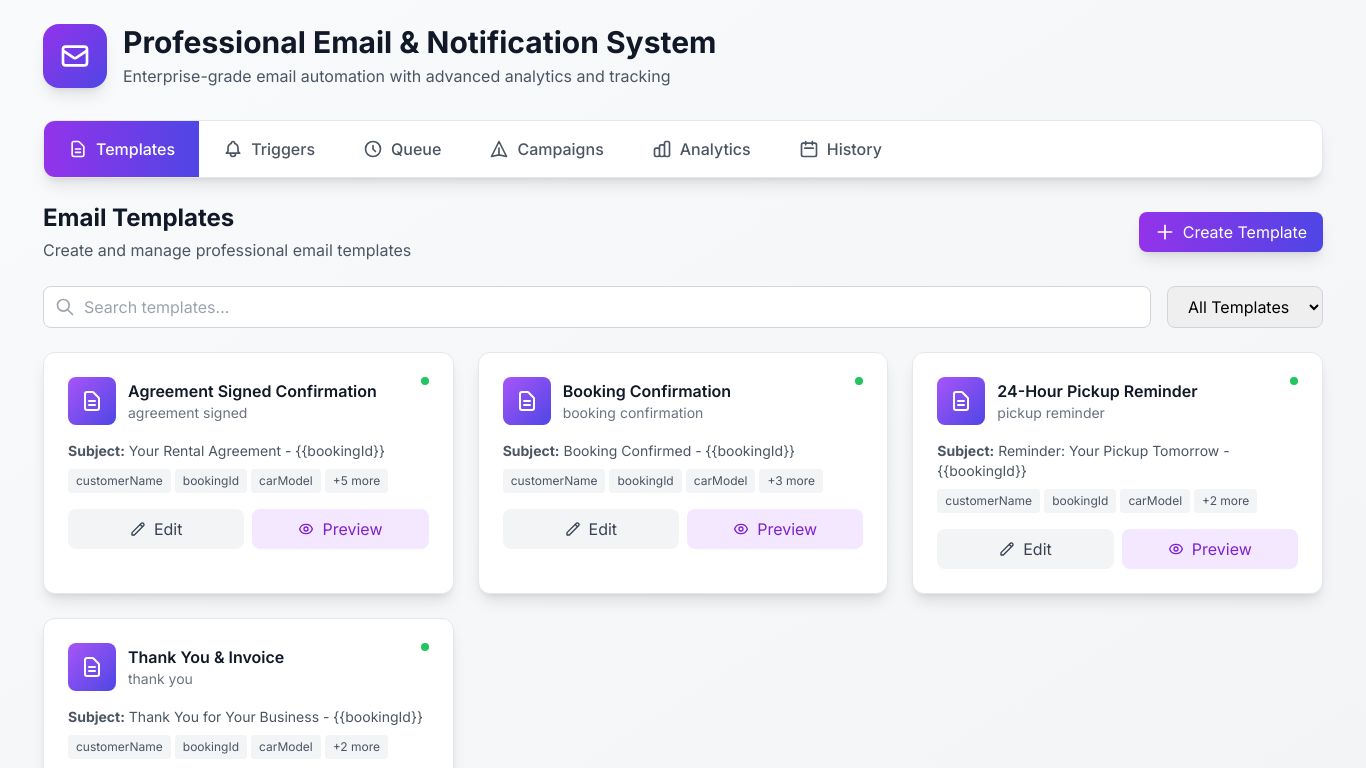
it: ProfessionalEmailNotificationSystem › Templates Tab › should open template preview on click
Click the button "Preview" below "Your Rental Agreement - {{bookingId}}": click(340, 529) [252, 509, 429, 549]
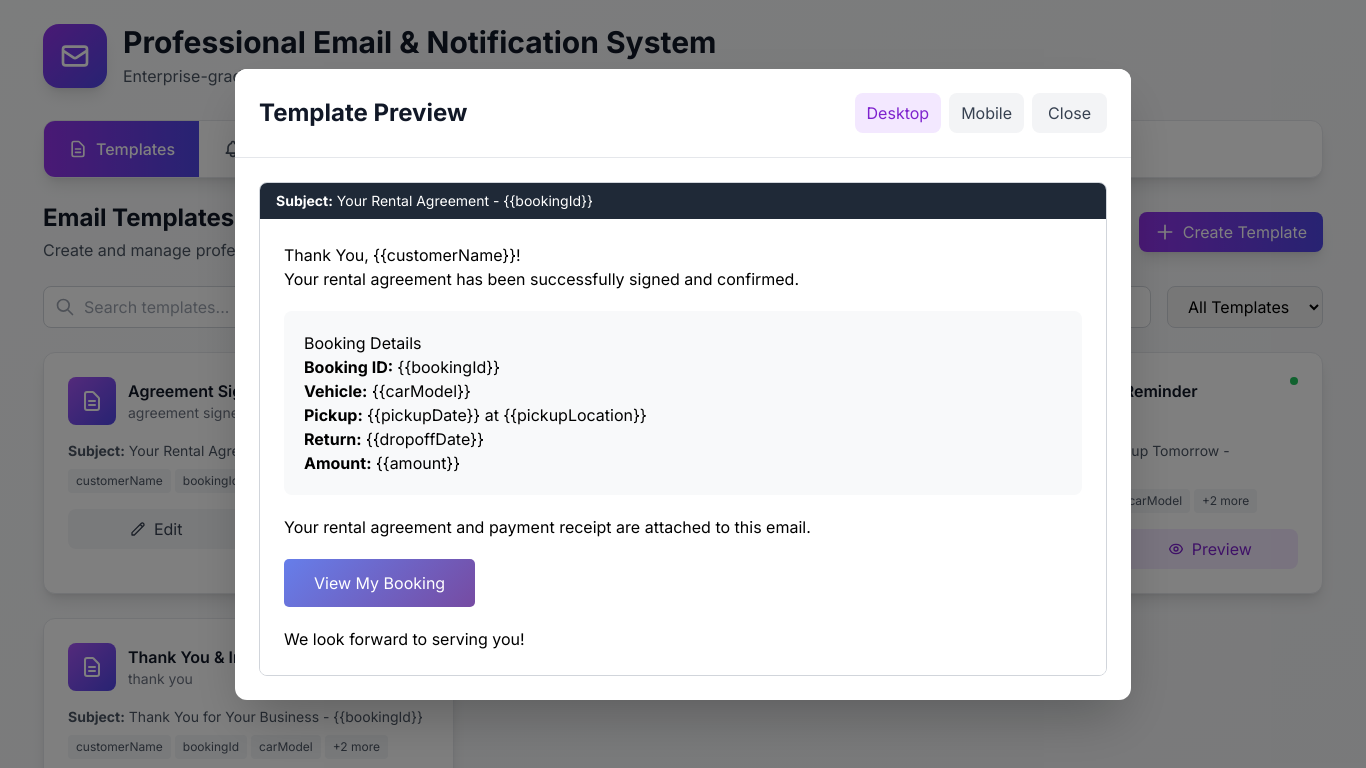
Expected: the heading "Template Preview" is shown, [259, 96, 467, 128]
